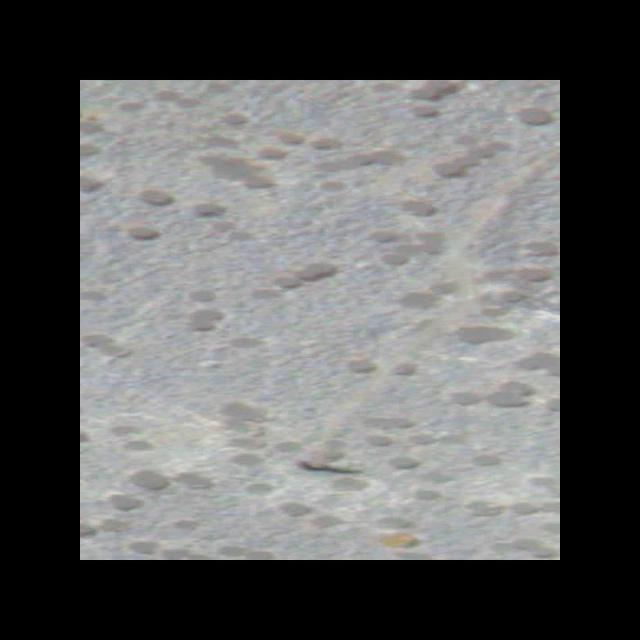Fibre: (284, 142, 560, 480)
